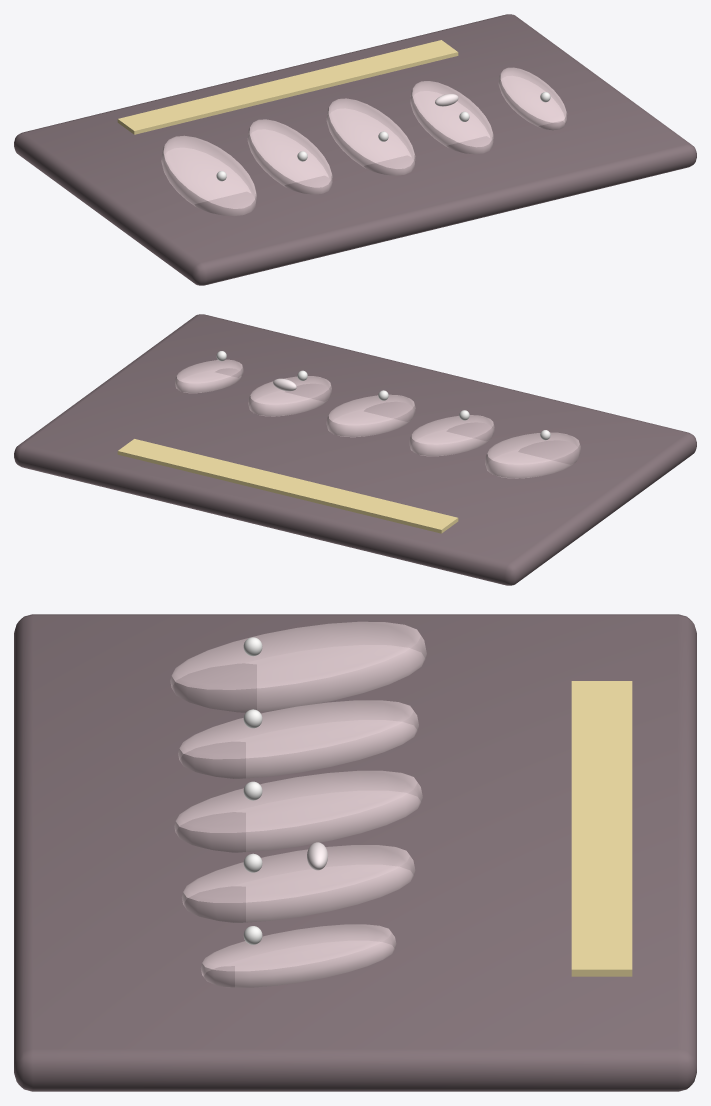
The model's file is blush-glaze-coquette-set.glb.
3 views of the same model, one above another, from view 1: azimuth 30°, elevation 25°; view 2: azimuth 150°, elevation 25°; view 3: azimuth 270°, elevation 25° (orthographic). The views are drawn at different scales.
Visible parts, largest first — view 1: coquette_VelvetCard, coquette_GoldBar, coquette_Nail_0, coquette_Nail_2, coquette_Nail_1, coquette_Nail_3, coquette_Nail_4; view 2: coquette_VelvetCard, coquette_GoldBar, coquette_Nail_0, coquette_Nail_2, coquette_Nail_1, coquette_Nail_3, coquette_Nail_4; view 3: coquette_VelvetCard, coquette_GoldBar, coquette_Nail_0, coquette_Nail_2, coquette_Nail_1, coquette_Nail_3, coquette_Nail_4.
Part boxes in pixels (bbox=[...]): coquette_VelvetCard: bbox=[14, 14, 696, 285]; coquette_GoldBar: bbox=[117, 40, 458, 134]; coquette_Nail_0: bbox=[161, 135, 256, 215]; coquette_Nail_2: bbox=[326, 98, 415, 175]; coquette_Nail_1: bbox=[247, 119, 332, 194]; coquette_Nail_3: bbox=[410, 81, 493, 154]; coquette_Nail_4: bbox=[498, 67, 567, 130]; coquette_VelvetCard: bbox=[14, 314, 696, 585]; coquette_GoldBar: bbox=[117, 439, 458, 533]; coquette_Nail_0: bbox=[485, 432, 580, 478]; coquette_Nail_2: bbox=[326, 394, 415, 437]; coquette_Nail_1: bbox=[409, 415, 494, 456]; coquette_Nail_3: bbox=[248, 376, 331, 416]; coquette_Nail_4: bbox=[175, 359, 243, 393]; coquette_VelvetCard: bbox=[14, 614, 696, 1091]; coquette_GoldBar: bbox=[571, 681, 632, 976]; coquette_Nail_0: bbox=[170, 621, 426, 712]; coquette_Nail_2: bbox=[174, 770, 422, 852]; coquette_Nail_1: bbox=[178, 700, 418, 778]; coquette_Nail_3: bbox=[181, 845, 415, 922]; coquette_Nail_4: bbox=[200, 924, 396, 987].
Bounding box in the file's own units: 0.28 × 0.0288 × 0.18.
